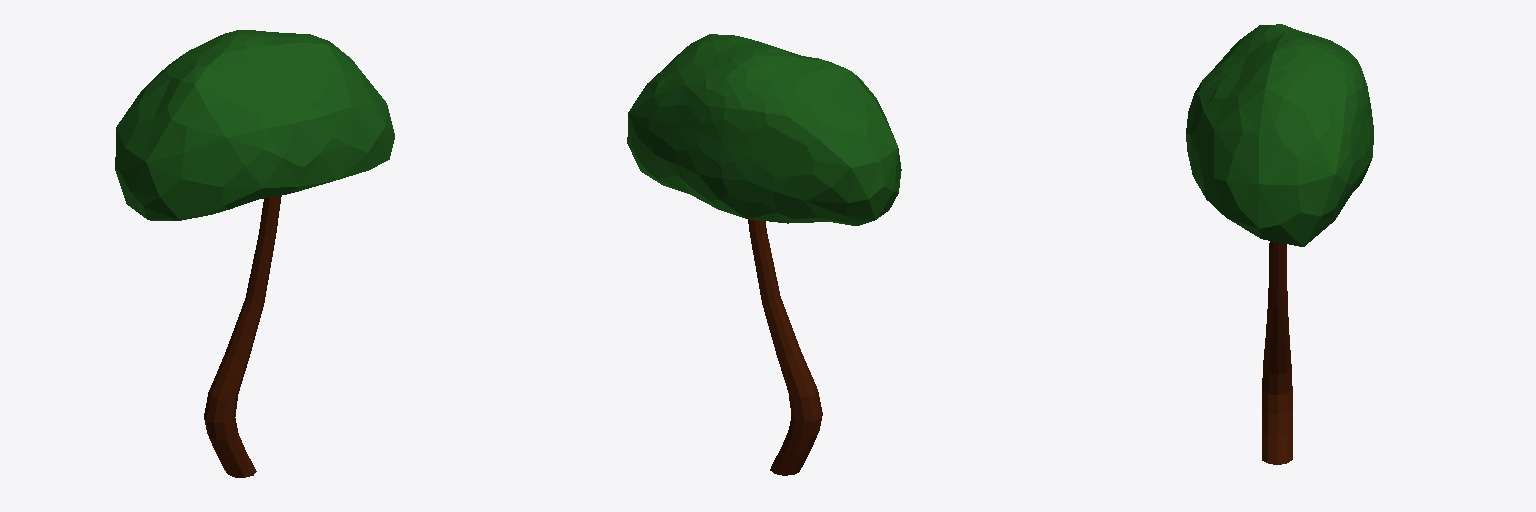
File: Tree1.obj
3 views of the same model, side by side, from view 1: azimuth 30°, elevation 25°; view 2: azimuth 150°, elevation 25°; view 3: azimuth 270°, elevation 25° (orthographic).
Parts seen in each view (by area): view 1: Tree1; view 2: Tree1; view 3: Tree1.
Part boxes in pixels (left/top/right/bottom): Tree1: left=115, top=30, right=394, bottom=477; Tree1: left=627, top=34, right=901, bottom=475; Tree1: left=1186, top=24, right=1373, bottom=464.
Bounding box in the file's own units: 3.3 × 5.31 × 2.14.